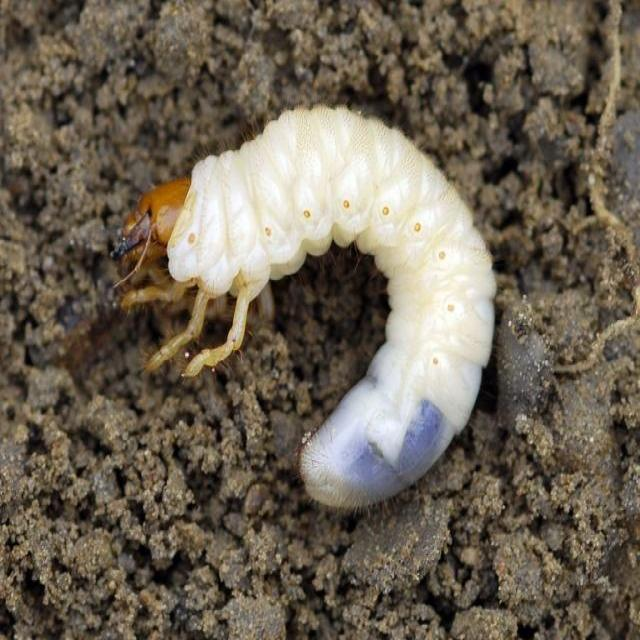grub: (130, 99, 508, 509)
